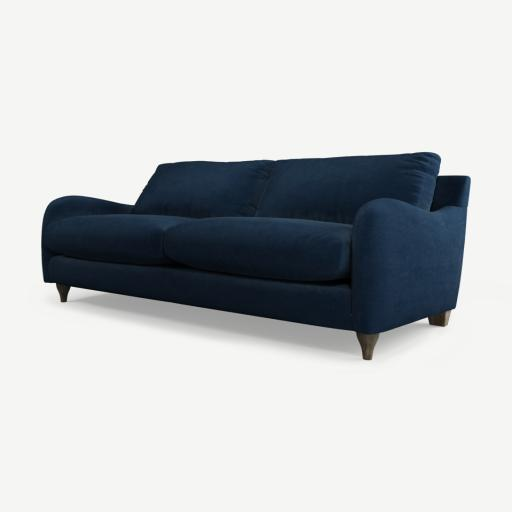back_cushion: (135, 153, 440, 223)
base: (50, 256, 352, 330)
left_arm: (351, 177, 470, 334)
legs: (357, 332, 379, 360), (429, 311, 450, 327), (56, 284, 70, 302)
right_arm: (42, 195, 133, 282)
seat_cushion: (43, 214, 352, 280)
two-seater: (0, 0, 511, 512)
